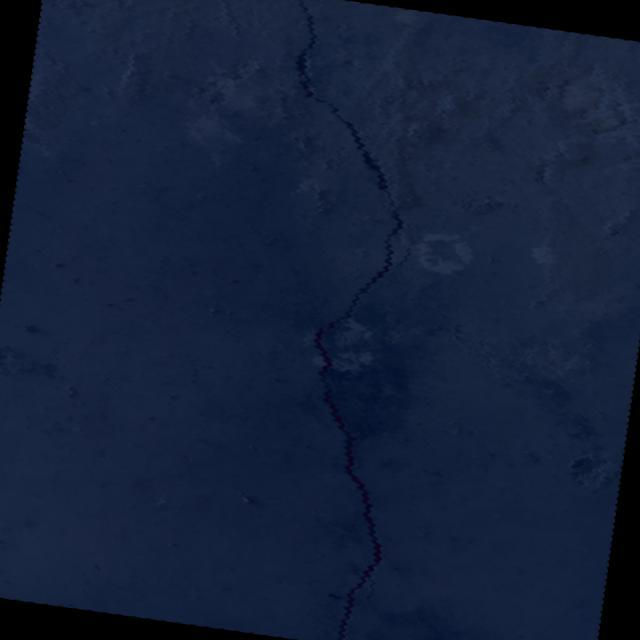crack: (209, 0, 470, 640)
